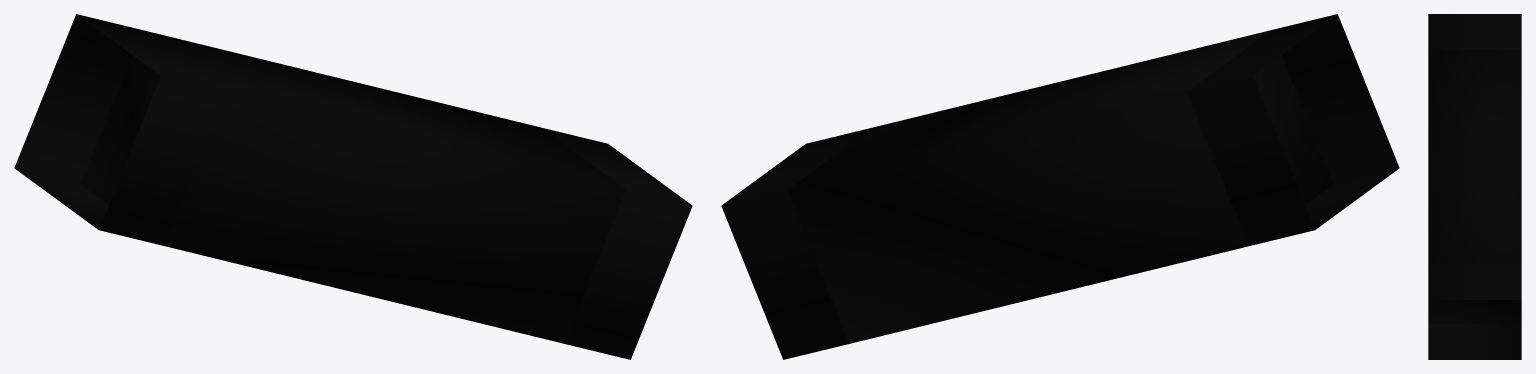
The picture shows the model from 3 angles, left to right: view 1: azimuth 30°, elevation 25°; view 2: azimuth 150°, elevation 25°; view 3: azimuth 270°, elevation 25°; orthographic projection. The views are drawn at different scales.
Parts seen in each view (by area): view 1: T1L1M004_21; view 2: T1L1M004_21; view 3: T1L1M004_21.
Part boxes in pixels (x1=…): T1L1M004_21: x1=14, y1=14, x2=692, y2=359; T1L1M004_21: x1=721, y1=14, x2=1399, y2=359; T1L1M004_21: x1=1428, y1=14, x2=1521, y2=359.
Bounding box in the file's own units: 1.62 × 1.04 × 0.3994.
